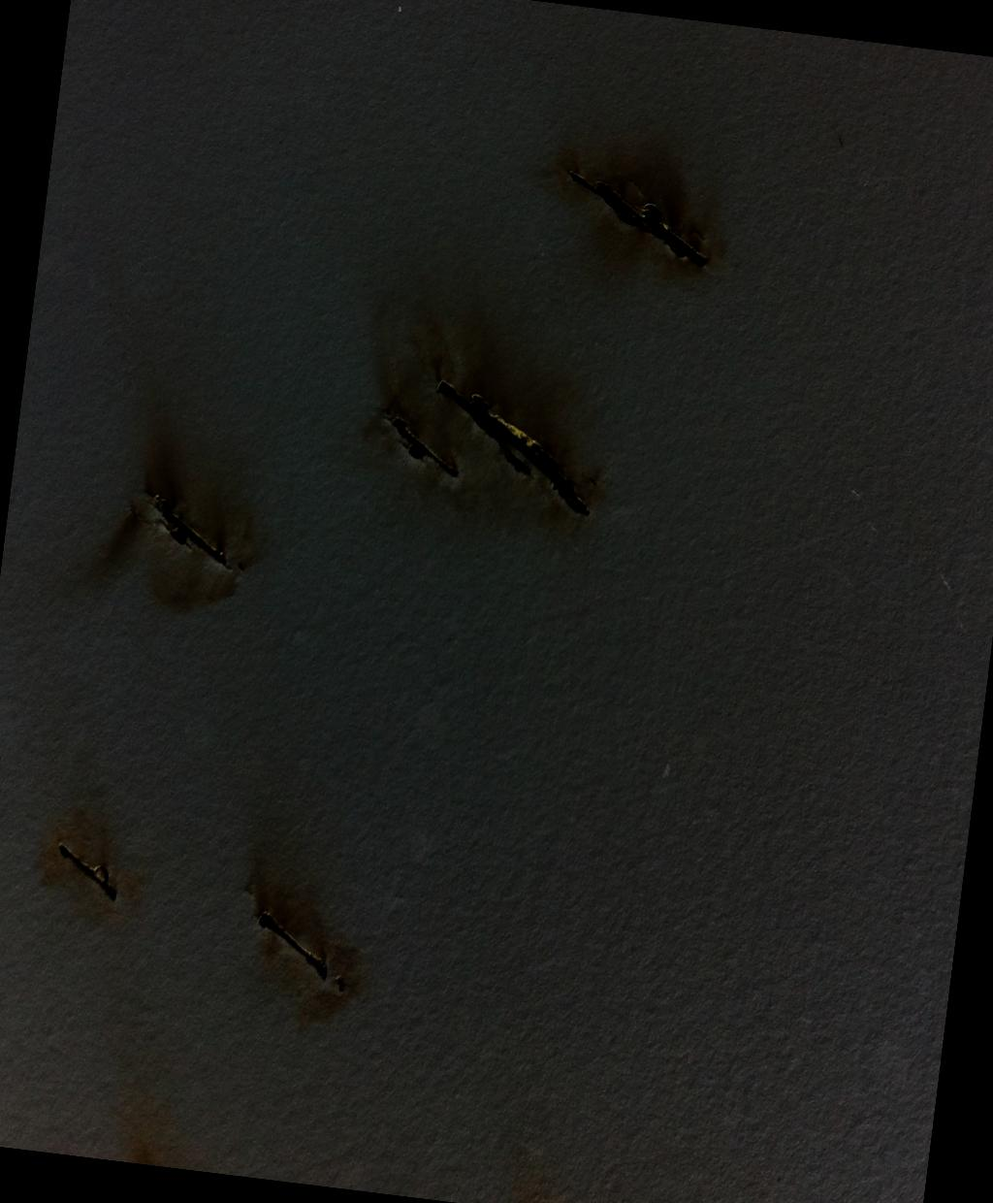crack: (421, 373, 605, 532), (562, 162, 720, 274), (247, 905, 361, 997), (136, 486, 240, 575), (383, 412, 463, 482), (51, 838, 126, 907)
